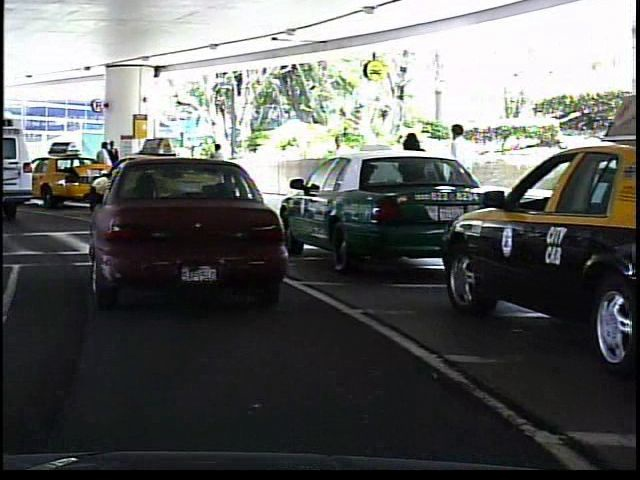person: (440, 117, 487, 230), (395, 125, 432, 231), (323, 127, 352, 205), (205, 138, 229, 190), (93, 141, 111, 194), (106, 137, 122, 193)
